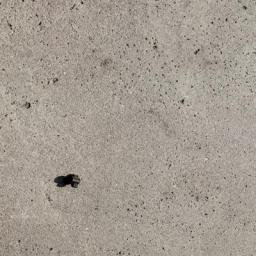FOD: (55, 172, 84, 195)
